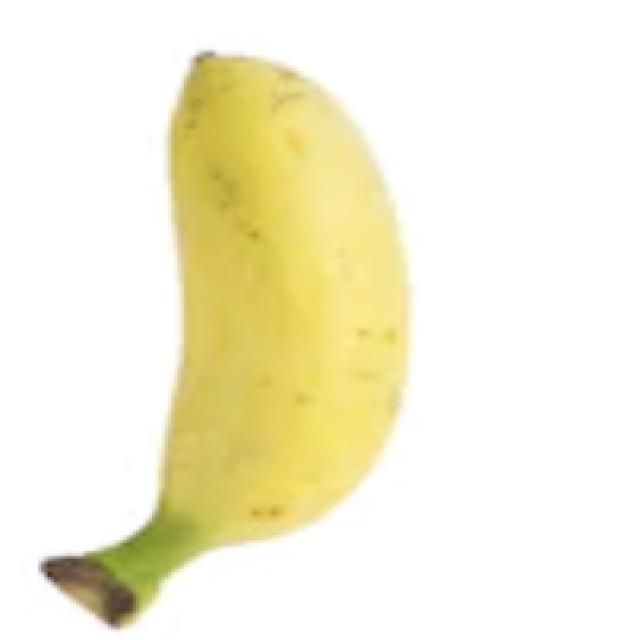fresh-banana: (38, 47, 409, 627)
